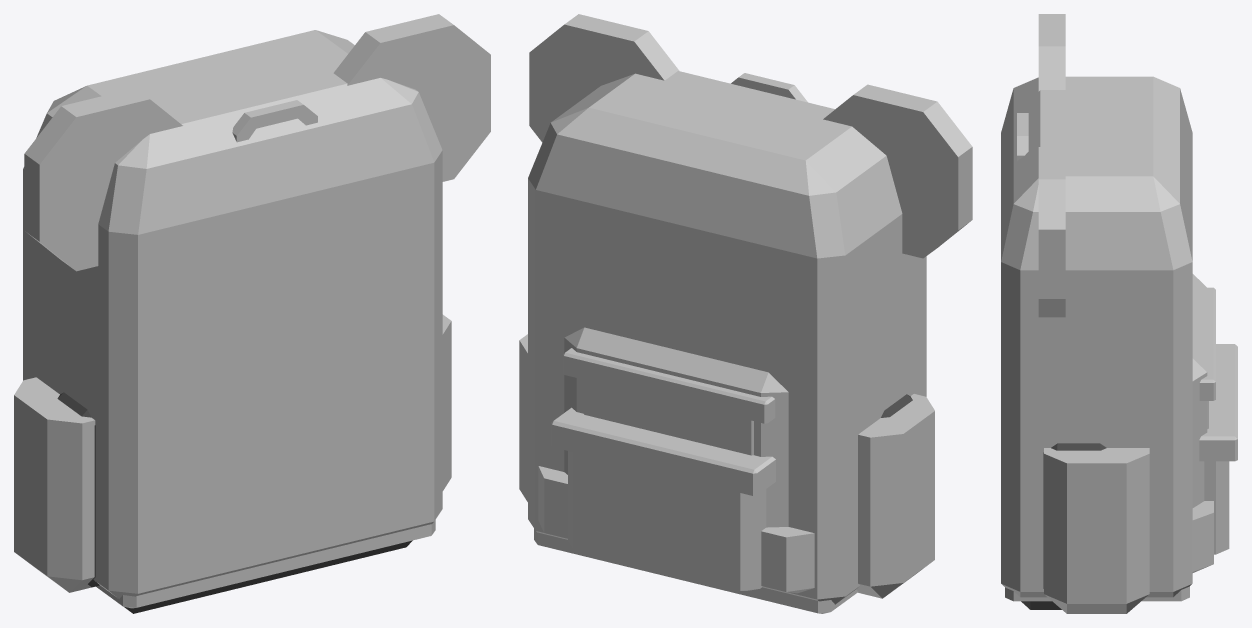
File: bag.fbx
The picture shows the model from 3 angles, left to right: view 1: azimuth 30°, elevation 25°; view 2: azimuth 150°, elevation 25°; view 3: azimuth 270°, elevation 25°; orthographic projection. The views are drawn at different scales.
Parts seen in each view (by area): view 1: b7, b6, b2, b1, b11, b3; view 2: b7, b6, b2, b3, b1, b5; view 3: b7, b6, b2, b3, b1, b11, b5.
Part boxes in pixels (x1,y1,x2,y2): b7: [14, 30, 451, 598]; b6: [23, 173, 442, 593]; b2: [24, 14, 490, 271]; b1: [96, 520, 435, 608]; b11: [57, 392, 412, 613]; b3: [232, 100, 317, 142]; b7: [519, 71, 934, 604]; b6: [528, 196, 926, 598]; b2: [529, 14, 972, 258]; b3: [538, 73, 814, 593]; b1: [534, 348, 858, 613]; b5: [552, 425, 775, 495]; b7: [1001, 76, 1192, 613]; b6: [1001, 280, 1237, 591]; b2: [1038, 14, 1065, 317]; b3: [1017, 113, 1213, 572]; b1: [1005, 287, 1215, 601]; b11: [1021, 443, 1106, 609]; b5: [1199, 440, 1237, 461].
Size of the model in its own units: 7.62 by 8.17 by 3.86.
